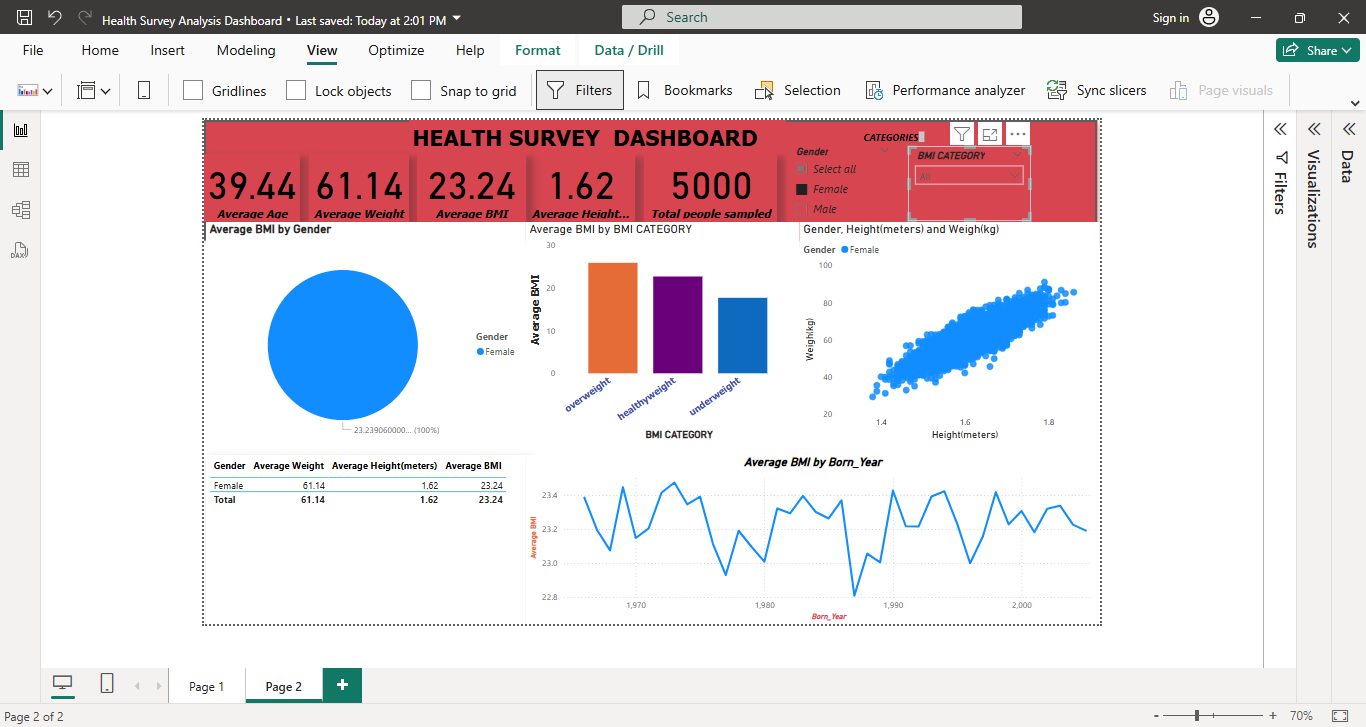

What the dashboard file says about the page in this screenshot:
{"tool":"powerbi","page":{"name":"Page 2","canvas":[1280,720],"ordinal":1},"visuals":[{"type":"actionButton","box":[0,0,1276,172],"z":0},{"type":"card","fields":{"Values":["Weight Dataset (2).Average Age"]},"box":[0,49.1,137.5,96.6],"z":1000},{"type":"card","fields":{"Values":["Weight Dataset (2).Average Height(meters)"]},"box":[460.3,48.7,156.2,97.4],"z":2000},{"type":"card","fields":{"Values":["Weight Dataset (2).Average Weight"]},"box":[149.5,48.7,142.8,97.4],"z":3000},{"type":"card","fields":{"Values":["Weight Dataset (2).Average BMI"]},"box":[304,48.7,156.2,97.4],"z":4000},{"type":"card","fields":{"Values":["Weight Dataset (2).Total people sampled"]},"box":[628.5,49.1,189.9,96.6],"z":5000},{"type":"textbox","box":[292.3,0,539.2,48.7],"z":6000},{"type":"slicer","fields":{"Values":["Weight Dataset (2).BMI CATEGORY"]},"box":[1006.2,37,174.7,107.5],"z":7000},{"type":"slicer","fields":{"Values":["Weight Dataset (2).Gender"]},"box":[833.2,31.9,157.9,114.2],"z":8000},{"type":"textbox","box":[0,237.5,150,150],"z":9000},{"type":"textbox","box":[937.3,11.8,97.4,25.2],"z":10000},{"type":"pieChart","fields":{"Category":["Weight Dataset (2).Gender"],"Y":["Weight Dataset (2).Average BMI"]},"box":[3.4,146.1,456.9,332.6],"z":11000},{"type":"clusteredColumnChart","fields":{"Y":["Weight Dataset (2).Average BMI"],"Category":["Weight Dataset (2).BMI CATEGORY"]},"box":[460.3,146.1,391.4,317.5],"z":12000},{"type":"scatterChart","fields":{"X":["Weight Dataset (2).Height(meters)"],"Y":["Weight Dataset (2).Weigh(kg)"],"Series":["Weight Dataset (2).Gender"]},"box":[851.7,146.1,428.3,317.5],"z":13000},{"type":"tableEx","fields":{"Values":["Weight Dataset (2).Gender","Weight Dataset (2).Average Weight","Weight Dataset (2).Average Height(meters)","Weight Dataset (2).Average BMI"]},"box":[3.4,478.7,456.9,241.9],"z":14000},{"type":"lineChart","fields":{"Category":["Weight Dataset (2).Born_Year"],"Y":["Weight Dataset (2).Average BMI"]},"box":[460.3,478.7,819.7,241.9],"z":15000}]}

Visuals, with their boxes on the page's 1280x720 design canvas (x1, y1, x2, y2). These are canvas units, not pixel positions in the 1366x727 screenshot, which may show the page scaled, cropped or inside an application window:
actionButton: l=0, t=0, r=1276, b=172
card - Weight Dataset (2).Average Age: l=0, t=49, r=138, b=146
card - Weight Dataset (2).Average Height(meters): l=460, t=49, r=616, b=146
card - Weight Dataset (2).Average Weight: l=150, t=49, r=292, b=146
card - Weight Dataset (2).Average BMI: l=304, t=49, r=460, b=146
card - Weight Dataset (2).Total people sampled: l=628, t=49, r=818, b=146
textbox: l=292, t=0, r=832, b=49
slicer - Weight Dataset (2).BMI CATEGORY: l=1006, t=37, r=1181, b=144
slicer - Weight Dataset (2).Gender: l=833, t=32, r=991, b=146
textbox: l=0, t=238, r=150, b=388
textbox: l=937, t=12, r=1035, b=37
pieChart - Weight Dataset (2).Gender x Weight Dataset (2).Average BMI: l=3, t=146, r=460, b=479
clusteredColumnChart - Weight Dataset (2).Average BMI x Weight Dataset (2).BMI CATEGORY: l=460, t=146, r=852, b=464
scatterChart - Weight Dataset (2).Height(meters) x Weight Dataset (2).Weigh(kg): l=852, t=146, r=1280, b=464
tableEx - Weight Dataset (2).Gender x Weight Dataset (2).Average Weight: l=3, t=479, r=460, b=721
lineChart - Weight Dataset (2).Born_Year x Weight Dataset (2).Average BMI: l=460, t=479, r=1280, b=721
